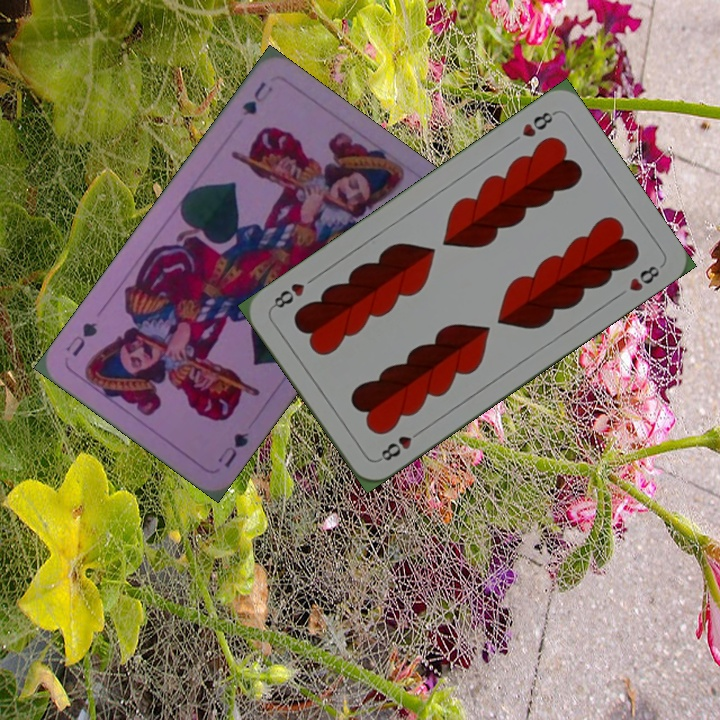GU: (213, 428, 252, 471), (238, 77, 276, 119)
H8: (375, 425, 426, 464), (518, 107, 559, 140)
